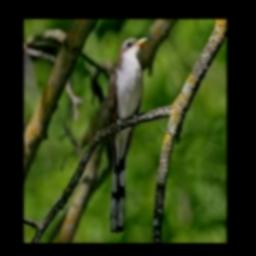Cuckoo: (105, 37, 148, 233)
